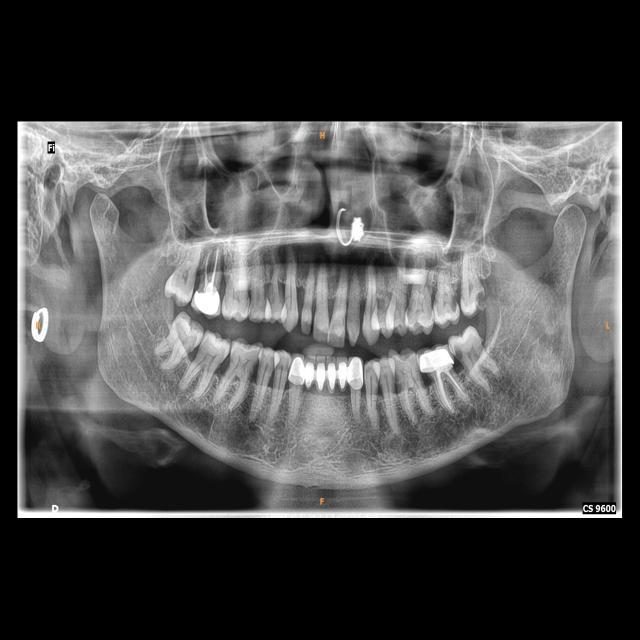dentin-curugu: (474, 288, 489, 313), (451, 342, 467, 364), (396, 371, 406, 397), (451, 288, 459, 310)
kanal-tedavisi: (434, 373, 468, 412), (202, 250, 220, 292)
kaplama: (418, 346, 455, 375), (193, 288, 221, 316), (286, 356, 305, 387), (348, 352, 363, 388)
kopru: (306, 354, 348, 400)
